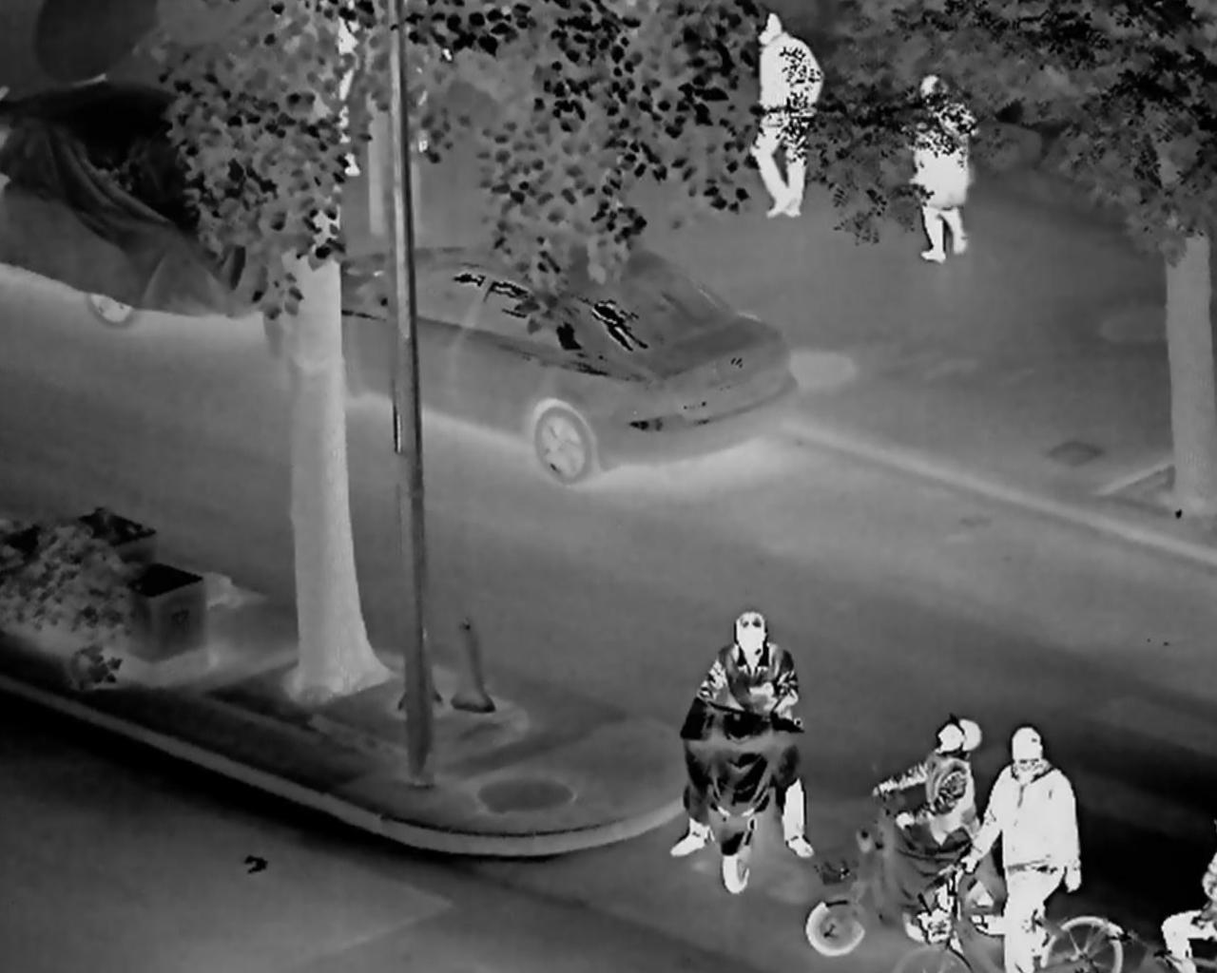person: (673, 591, 842, 868), (975, 719, 1108, 973), (877, 692, 993, 934), (724, 10, 839, 235), (895, 61, 973, 279)
